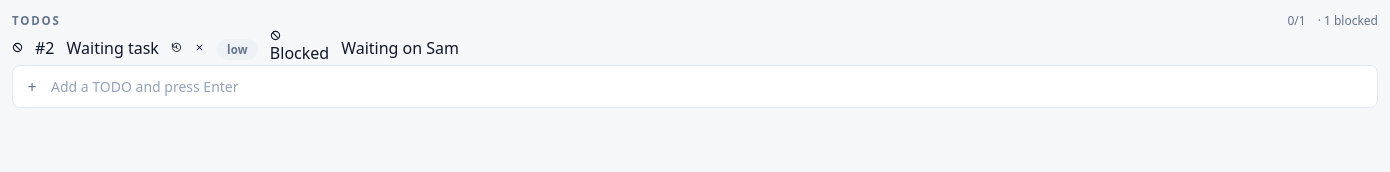
Test: TodosSection blocked tasks › Blocked rows › a failed unblock shows an alert
Click the button with aria-label "Unblock task".
click(300, 48)  # box [270,30,329,65]
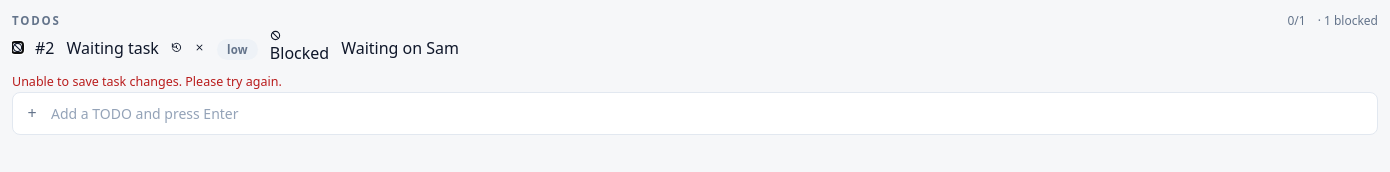
Expected: the message shows "Unable to save task changes", [12,73,282,90]
